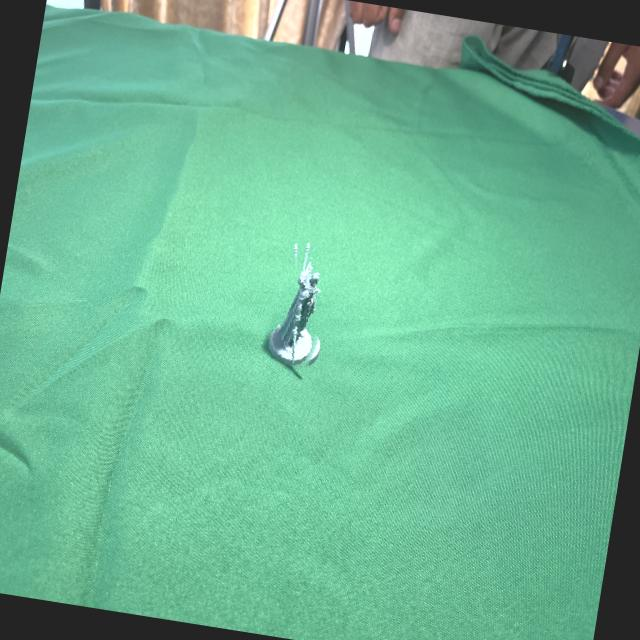isis_follower: (263, 236, 346, 373)
